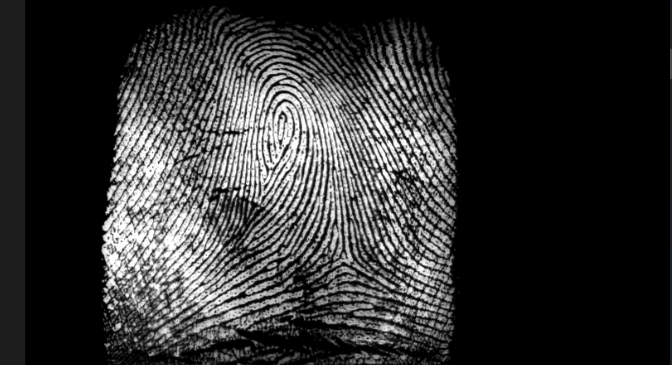deltas: (321, 231, 365, 280)
nucleo: (263, 95, 302, 149)
